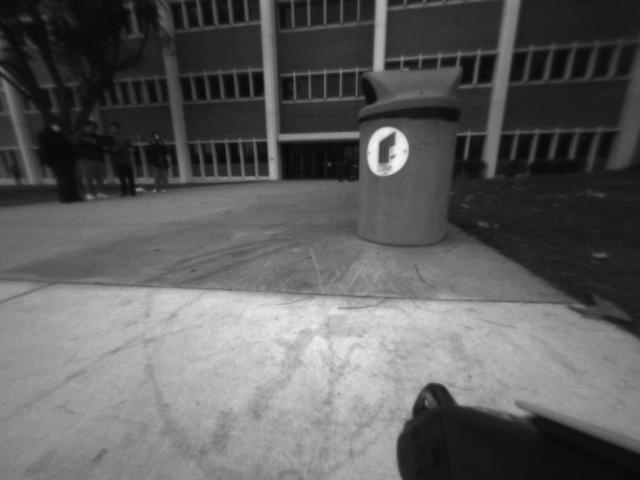trashcan: (351, 61, 467, 250)
